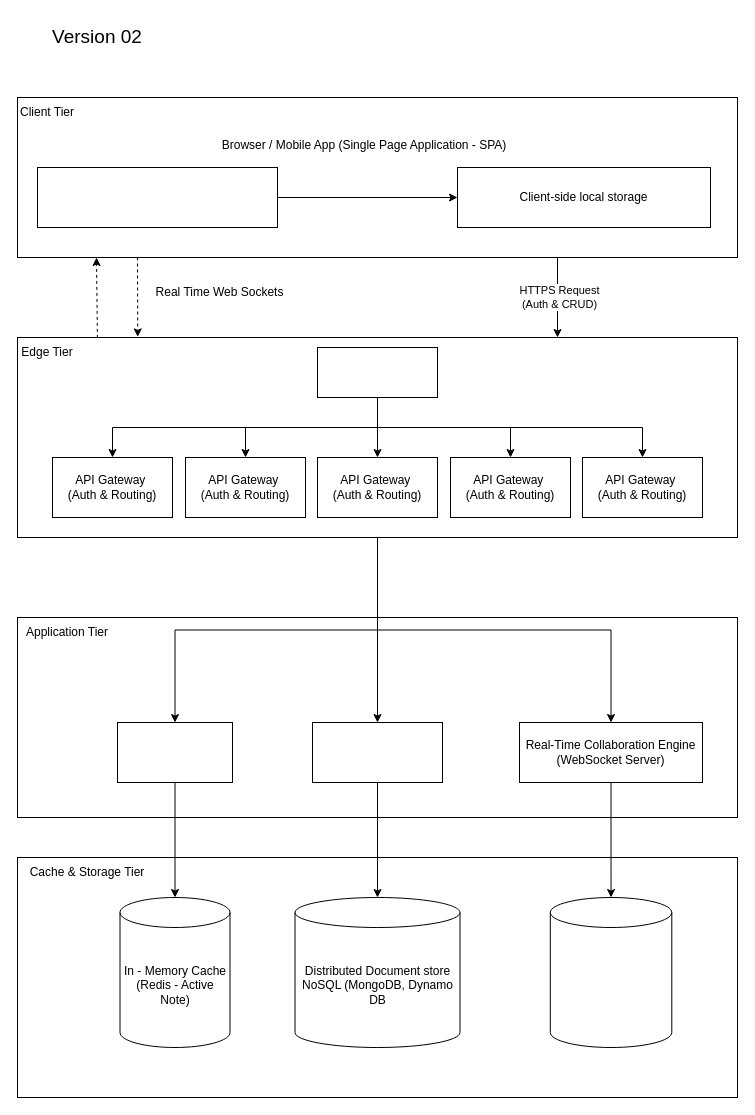
This 755x1115 diagram has some shape labels left out. The centre of each missing label's shape, as x and y in pixels:
"Load Balancer" belongs at (377,372).
"Notes CRUD Service (Validates permissions)" belongs at (377,752).
"Optimization state management For UI Performance" belongs at (157,197).
"Permission Graph DB (Neo4j or Relational)" belongs at (610,972).
"UserService & Auth (Handles Logins & Sessions)" belongs at (174,752).
